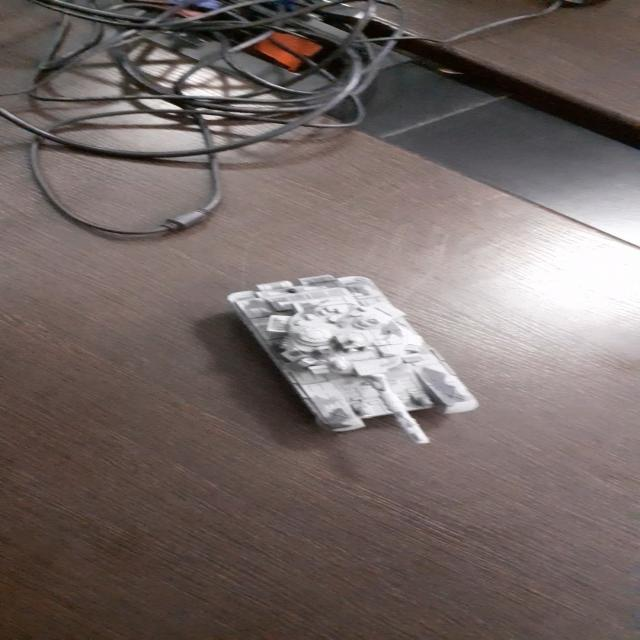tank: (226, 274, 484, 444)
